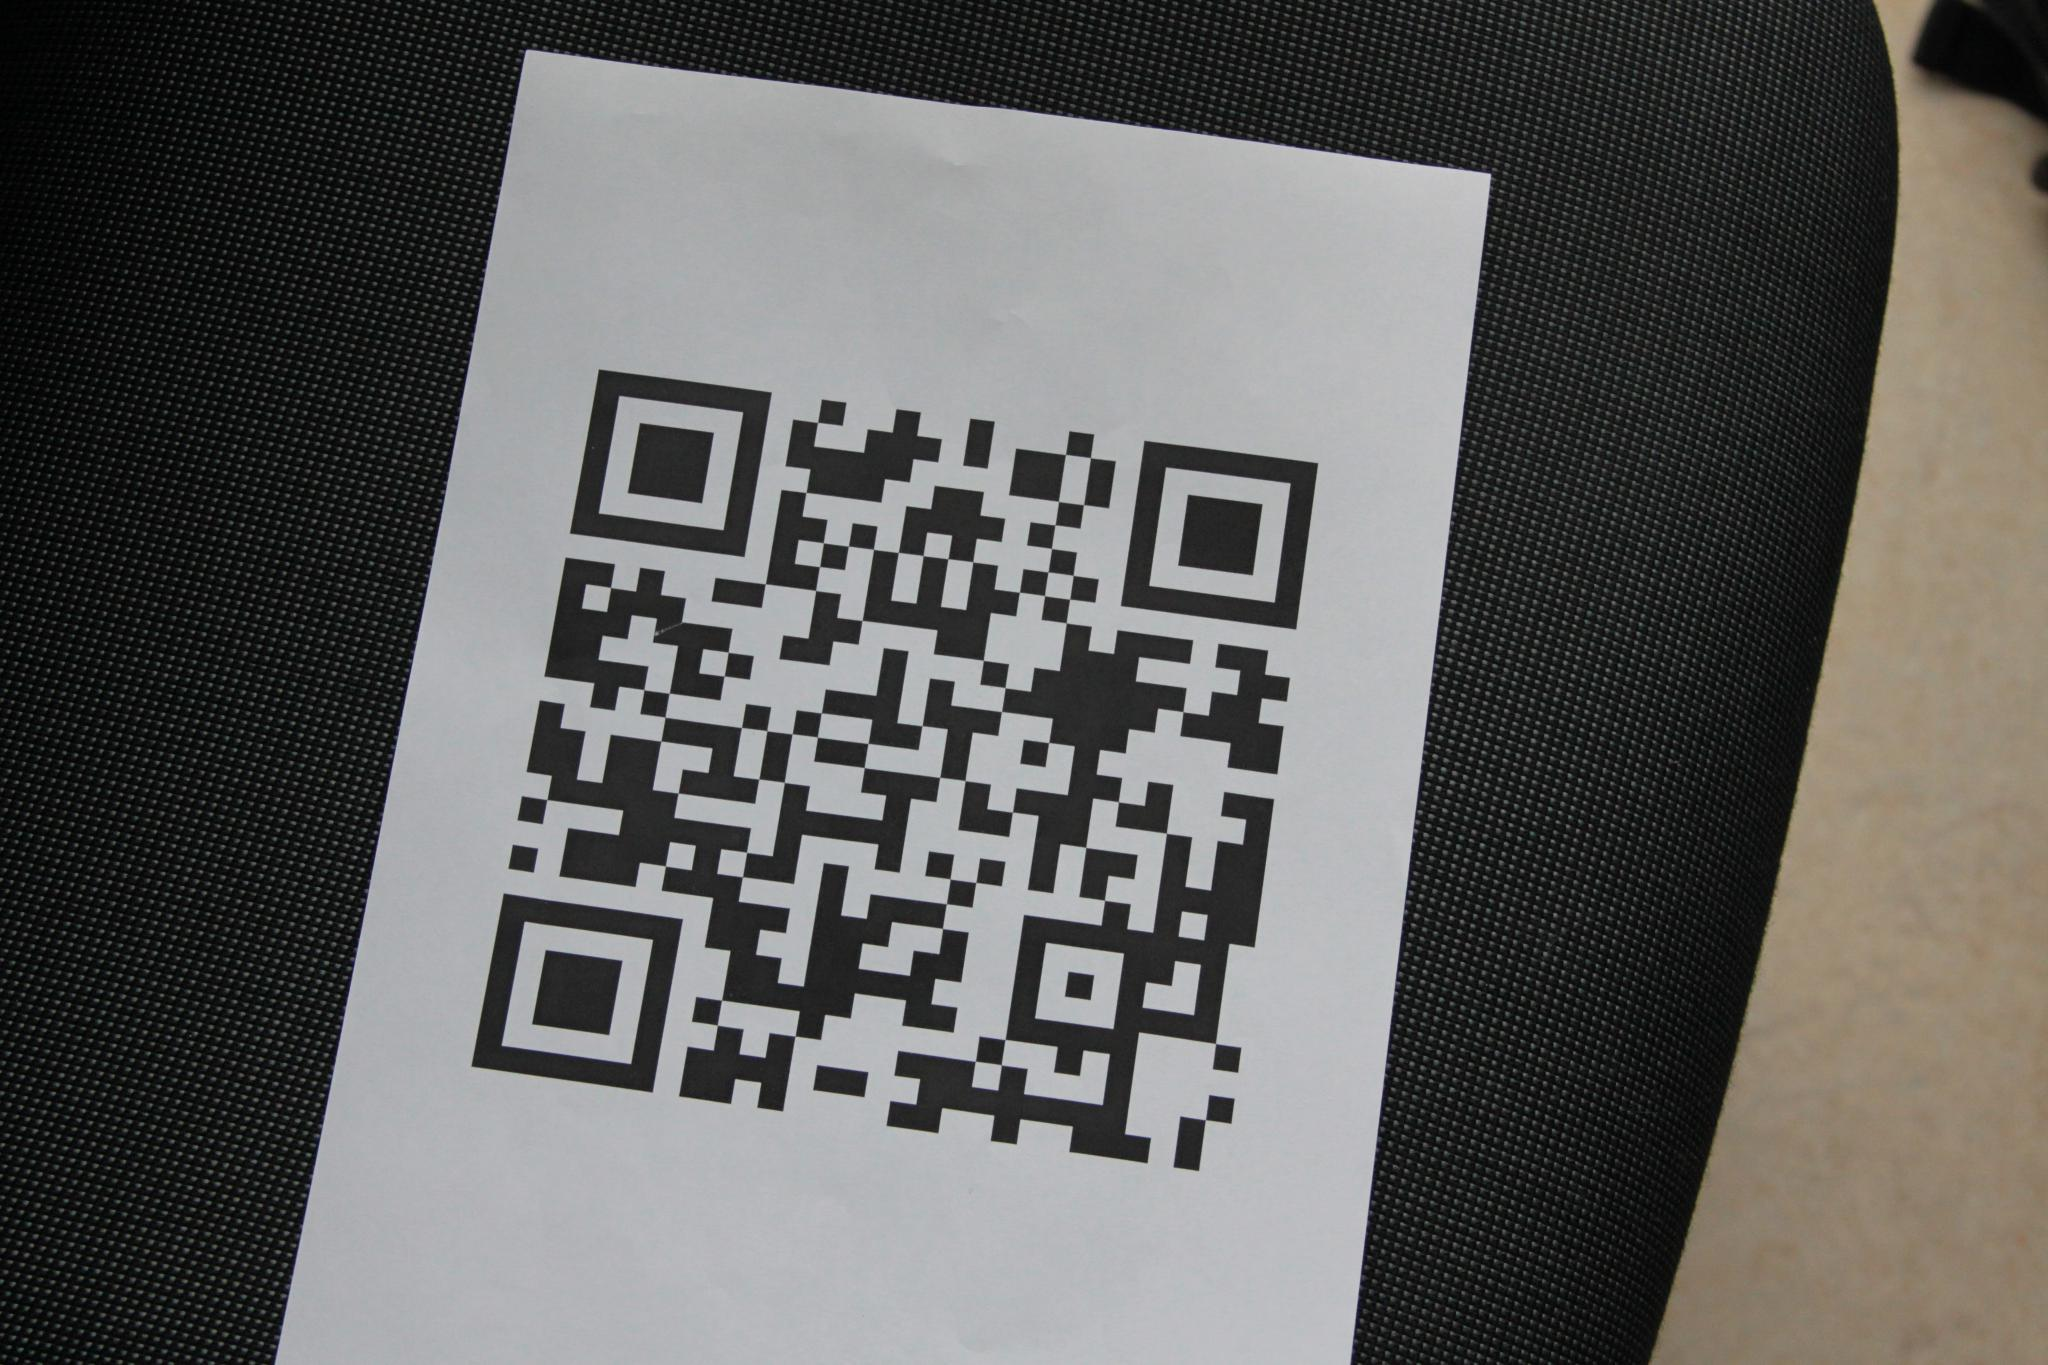Finder pattern: (464, 894, 684, 1103), (563, 369, 774, 564), (1122, 436, 1322, 634)
